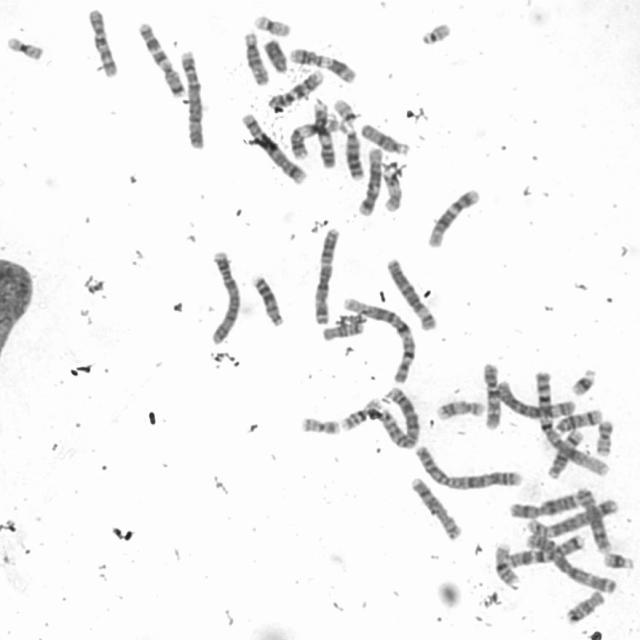A1: (530, 365, 612, 479), (339, 292, 418, 384)
A2: (414, 443, 524, 491), (372, 382, 422, 451)
A3: (522, 529, 618, 596), (309, 225, 342, 326)
B4: (207, 248, 242, 346), (176, 45, 206, 150)
B5: (237, 109, 308, 186), (525, 495, 620, 539)
C10: (85, 5, 121, 80), (480, 360, 502, 430)
C11: (287, 44, 358, 84), (286, 115, 342, 161)
C12: (424, 185, 482, 249), (354, 143, 384, 216)
C6: (382, 254, 440, 332), (494, 378, 577, 420)
C7: (135, 18, 188, 99), (503, 530, 588, 569)
C8: (407, 473, 464, 541), (572, 483, 614, 555)
C9: (265, 68, 324, 110), (309, 96, 336, 168)
D13: (249, 271, 285, 329), (340, 121, 366, 182)
D14: (545, 426, 586, 480), (553, 404, 604, 434)
D15: (358, 120, 412, 156), (240, 29, 271, 87)
E16: (337, 397, 385, 432), (491, 539, 521, 589)
E17: (432, 394, 486, 422), (379, 160, 404, 212)
E18: (563, 588, 606, 624), (320, 318, 366, 341)
F19: (249, 10, 293, 38), (3, 33, 46, 61)
F20: (296, 412, 343, 436), (594, 417, 616, 458)
G21: (567, 363, 599, 398), (599, 548, 636, 571)
G22: (331, 97, 359, 133), (419, 20, 453, 46)
X: (507, 491, 580, 520)
Y: (259, 34, 290, 73)
